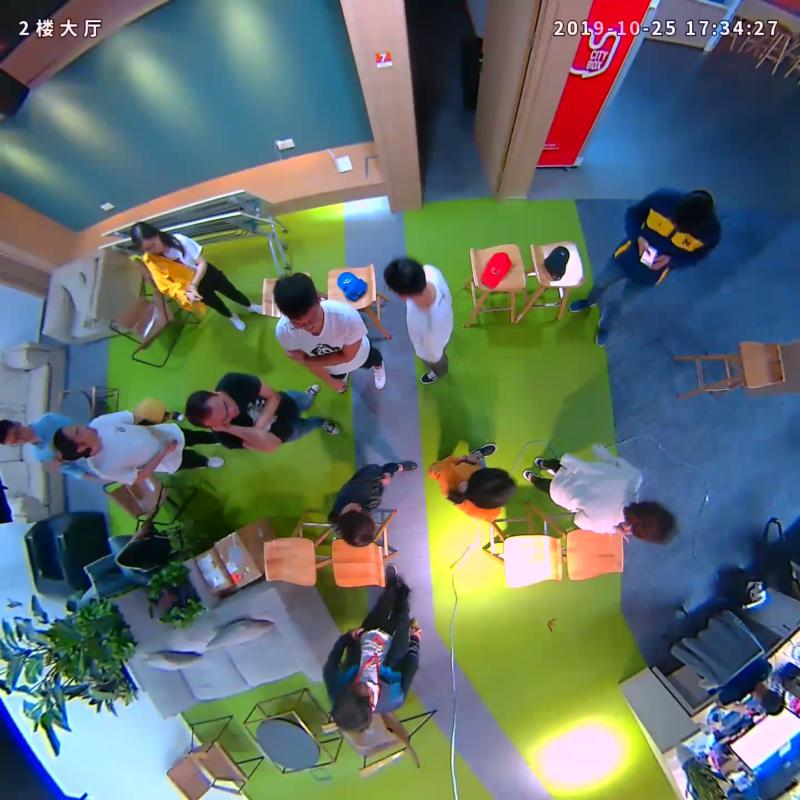head: (273, 273, 321, 333), (627, 500, 675, 545), (332, 683, 373, 734), (185, 389, 238, 428), (467, 468, 515, 510), (51, 423, 99, 459), (384, 258, 427, 298), (674, 191, 715, 232), (337, 508, 374, 548), (129, 221, 164, 255), (1, 418, 32, 445)
